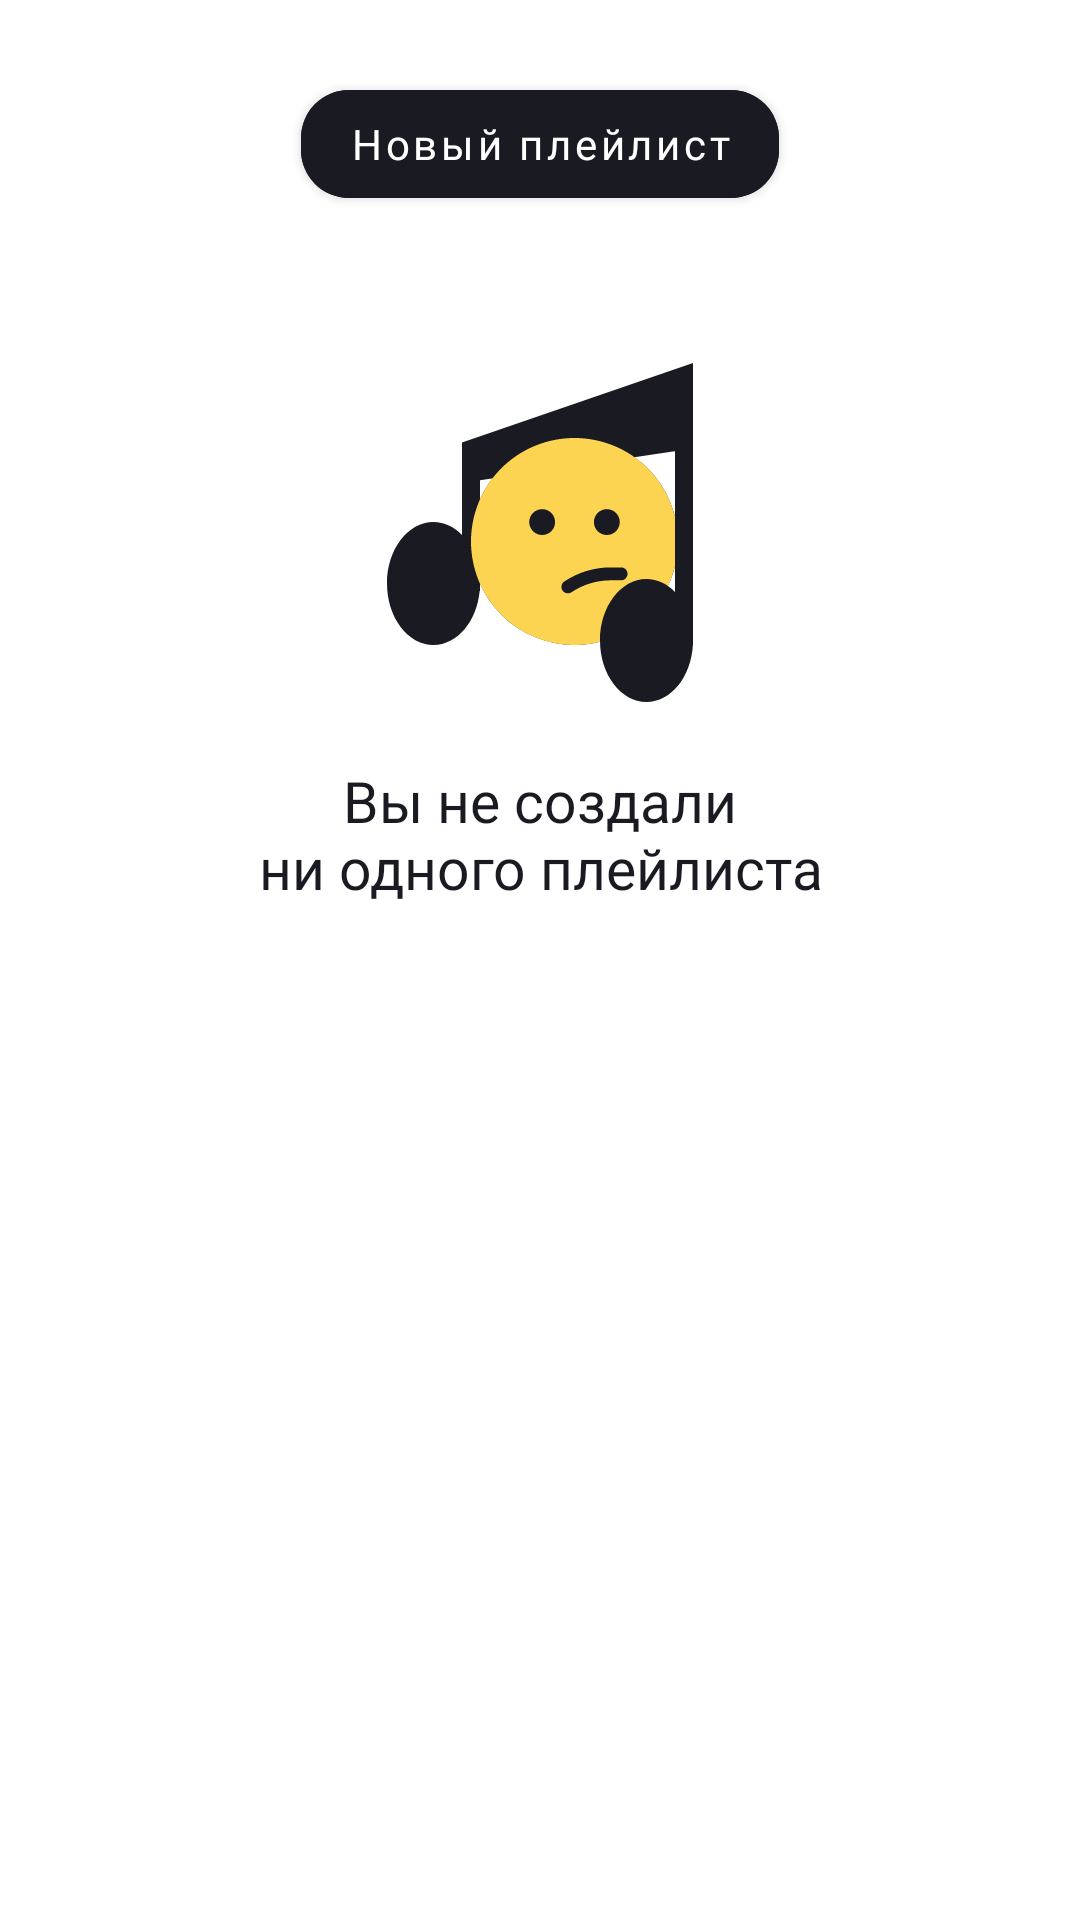

Icon click points for this 1080px×1920px phone screenshot, format (x,y):
error not found: (540,532)
